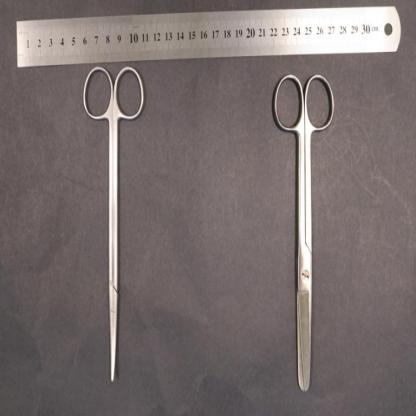7 Metzenbaum Scissors: (83, 63, 146, 383)
Dressing Scissors: (272, 71, 336, 392)
